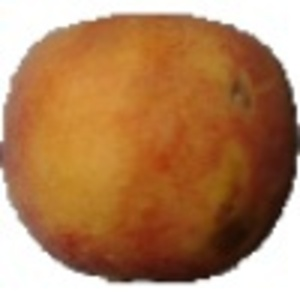pêssego: (1, 11, 300, 287)
